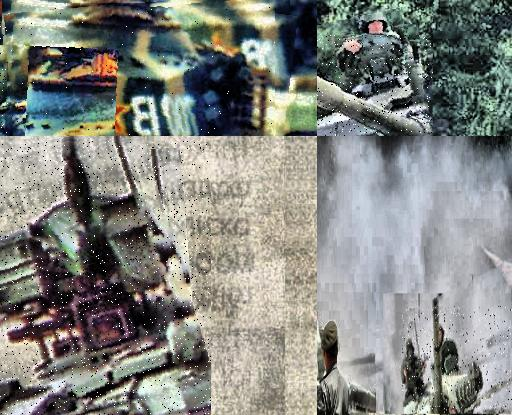tanks: (1, 142, 212, 415), (9, 5, 263, 137), (1, 25, 120, 137), (403, 307, 512, 415), (318, 36, 433, 137), (351, 388, 377, 415), (318, 314, 326, 391)
